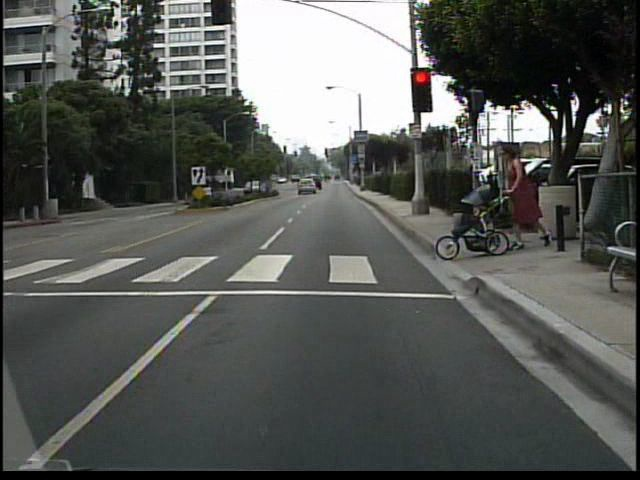person: (499, 146, 552, 254)
